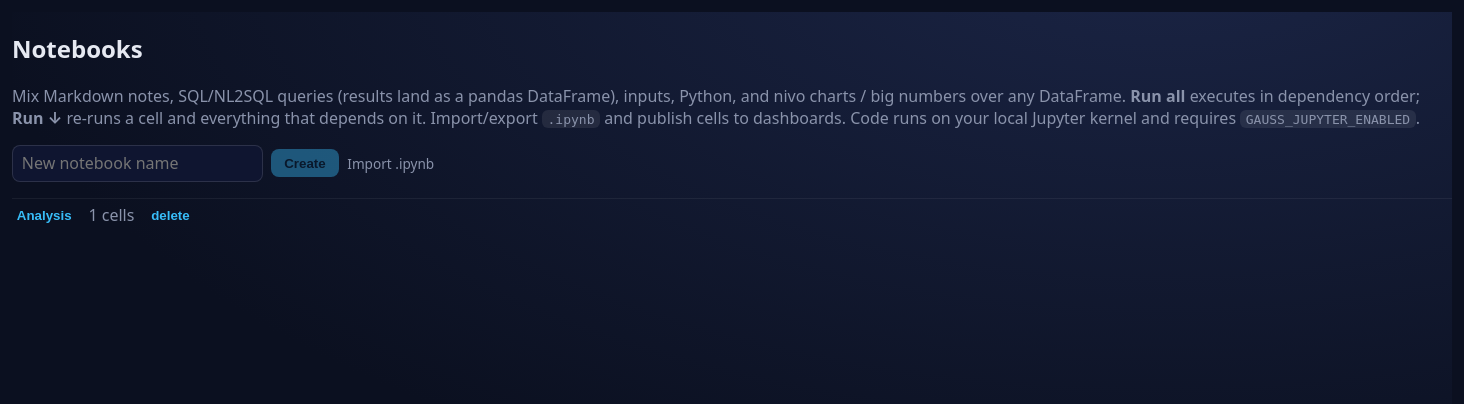
Notebooks › adds a SQL cell and renders its preview table
Click the button "Analysis" at (44, 215), box 12,204 -> 76,226
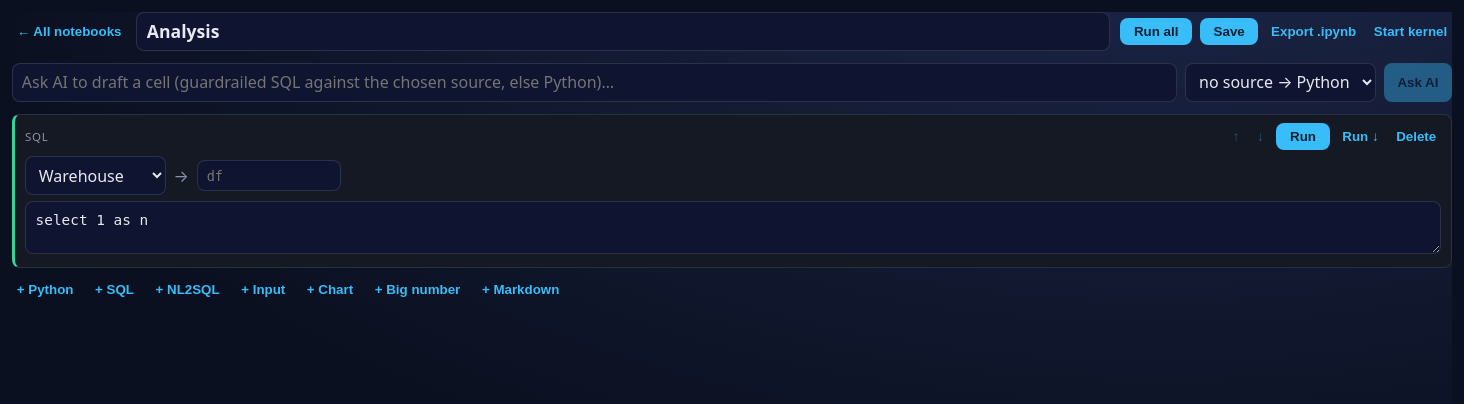
Expected: the dropdown named "data source" is shown, 25,156 -> 166,195
Click the button "Run" at (1303, 136), box 1276,123 -> 1330,150
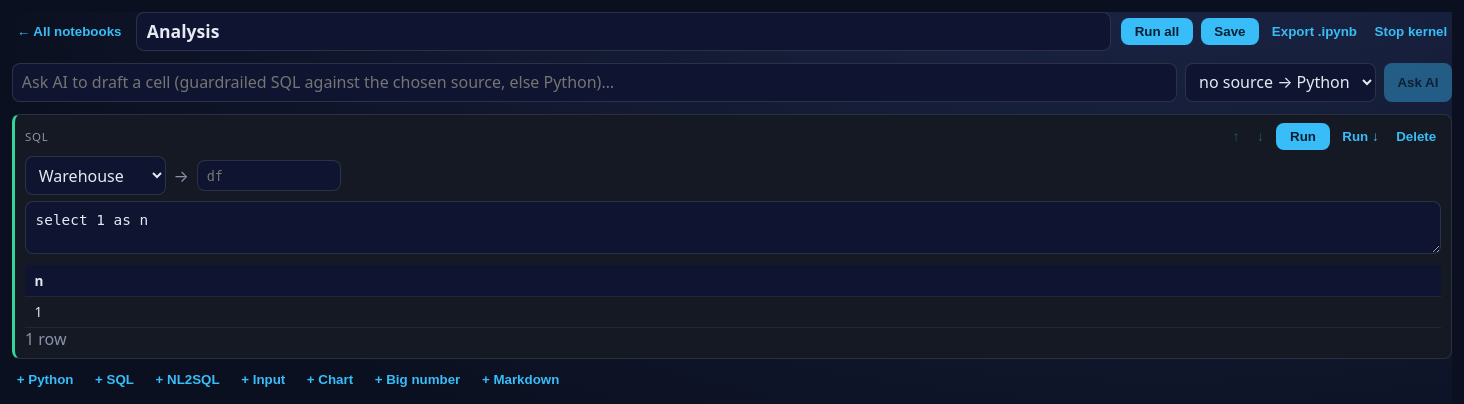
Expected: the text "1 row" is shown, 25,328 -> 66,350
Expected: the column heading "n" is shown, 25,265 -> 1441,296
